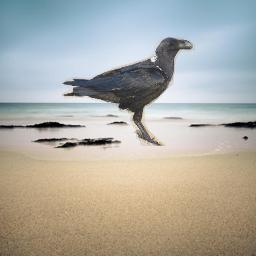Crow: (62, 37, 195, 146)
